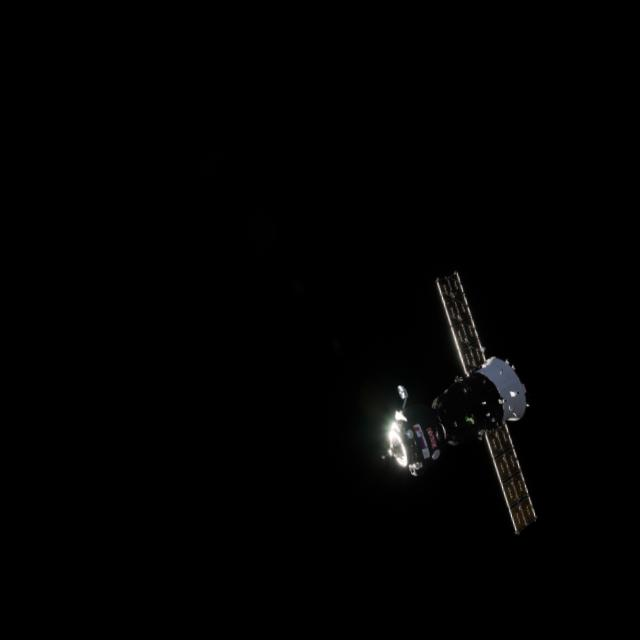Satellites revolving around earth: (356, 260, 549, 554)
